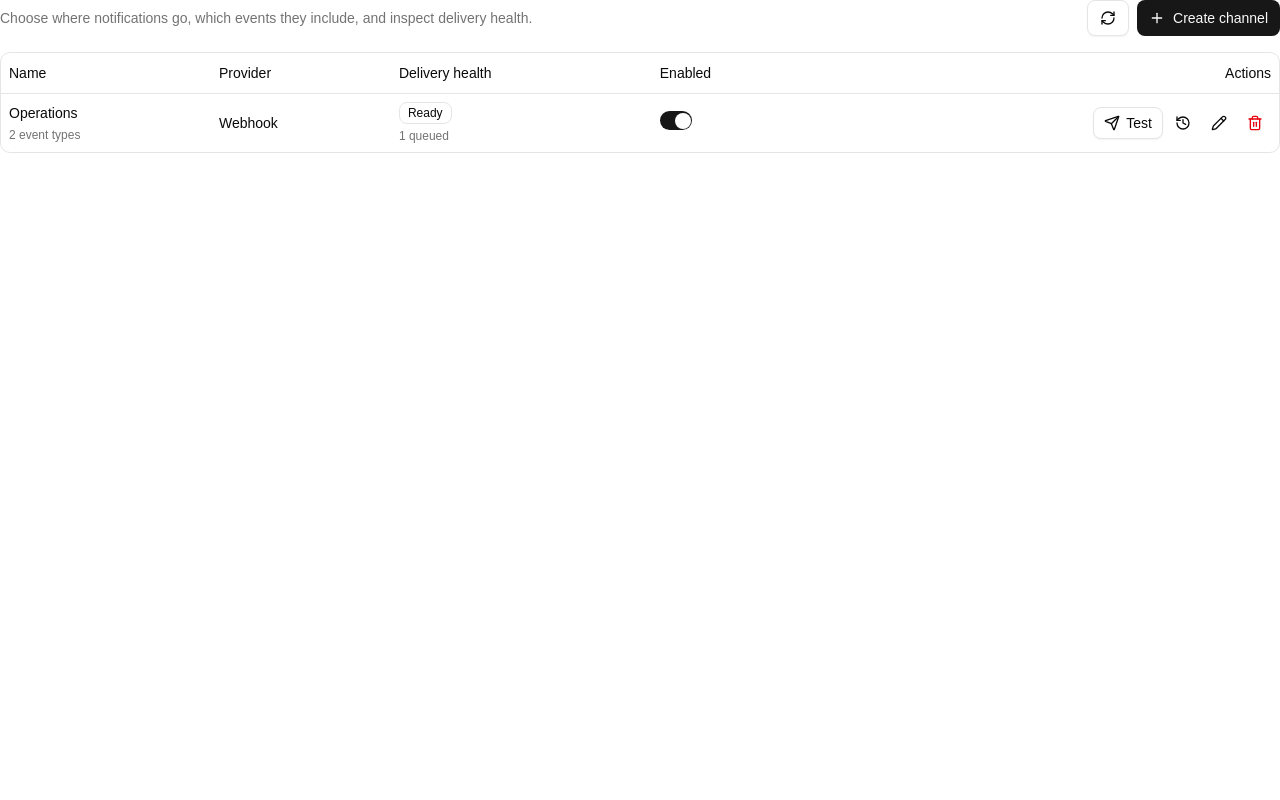
Test: notification channel operations › confirms deletion and leaves failed mutations retryable
What coordinates should you click on to do the following:
click the button named "Delete Operations"
I would click on:
 (1255, 122)
Its box is [1239,106,1271,138].
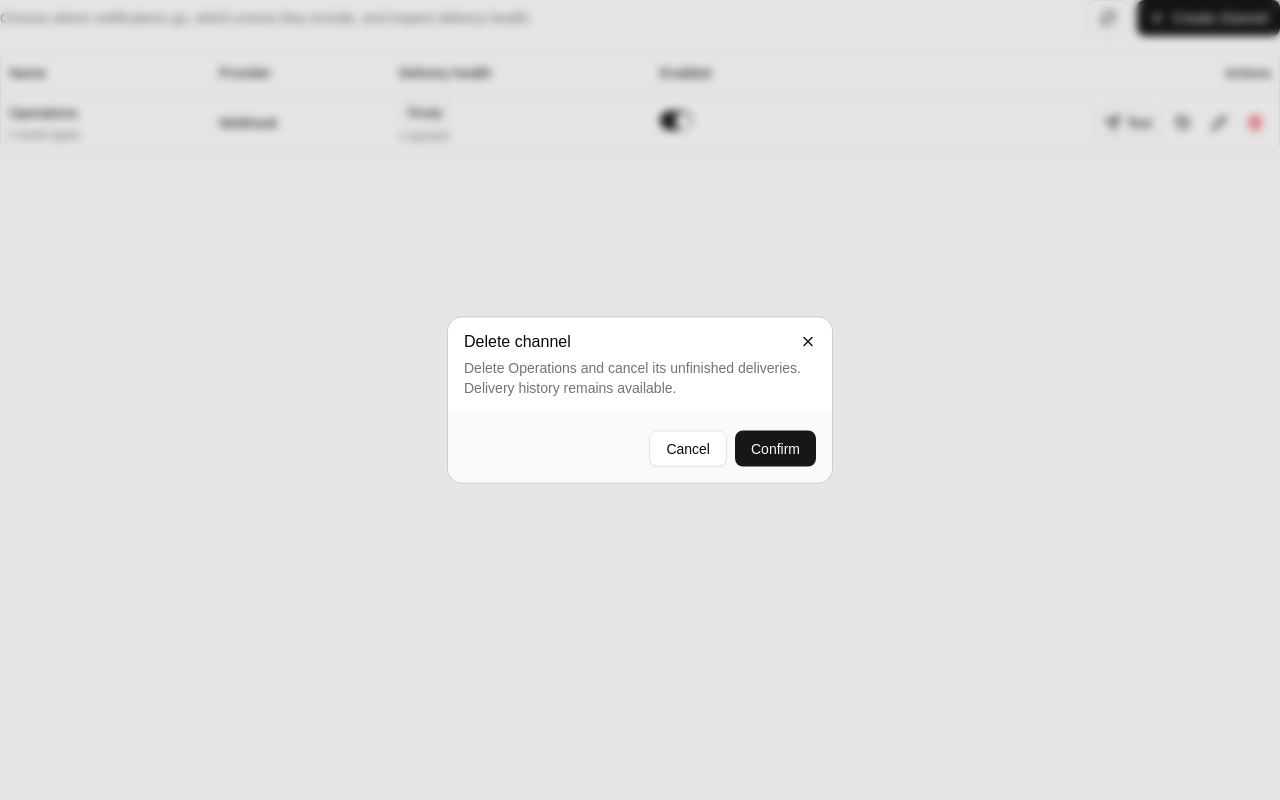
What coordinates should you click on to do the following:
click the button "Confirm"
I would click on:
 (776, 448)
Its box is [735,430,816,466].
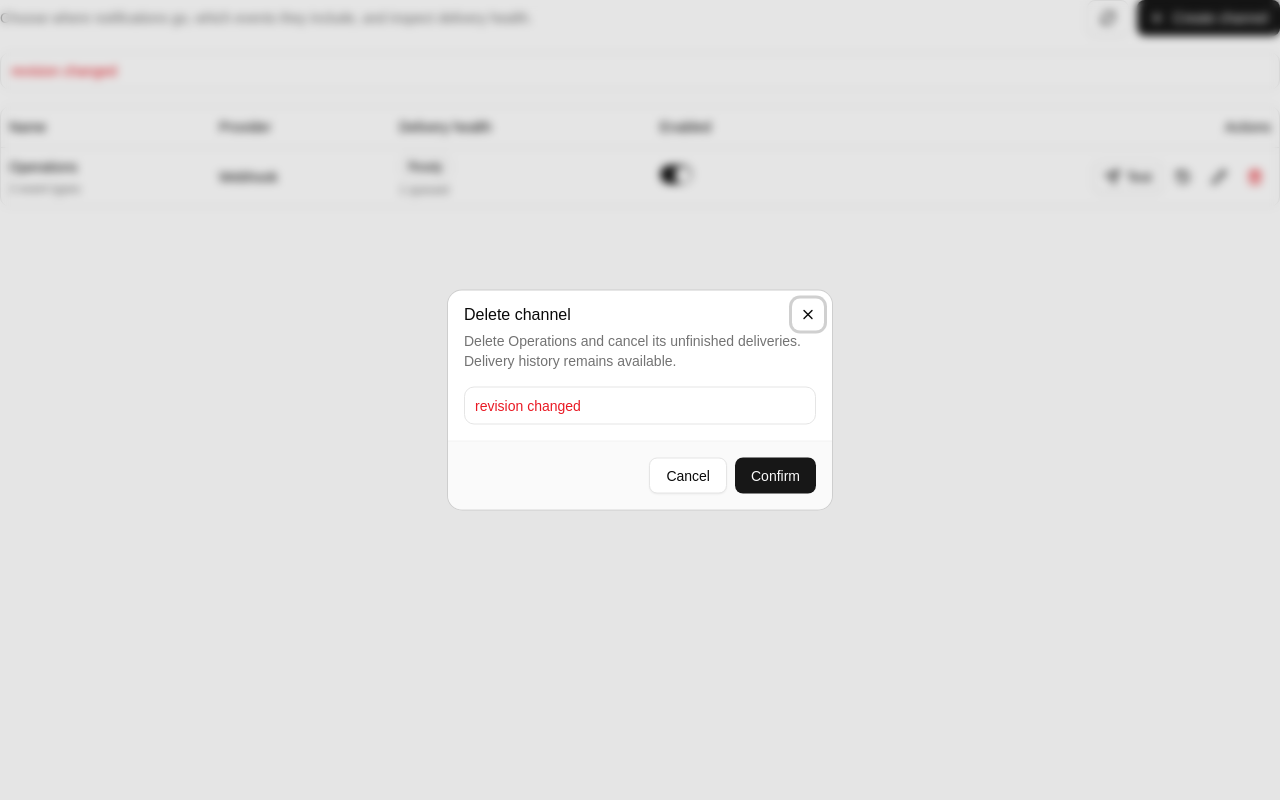
What coordinates should you click on to do the following:
click the button "Confirm"
I would click on:
 (776, 476)
Its box is [735,458,816,494].
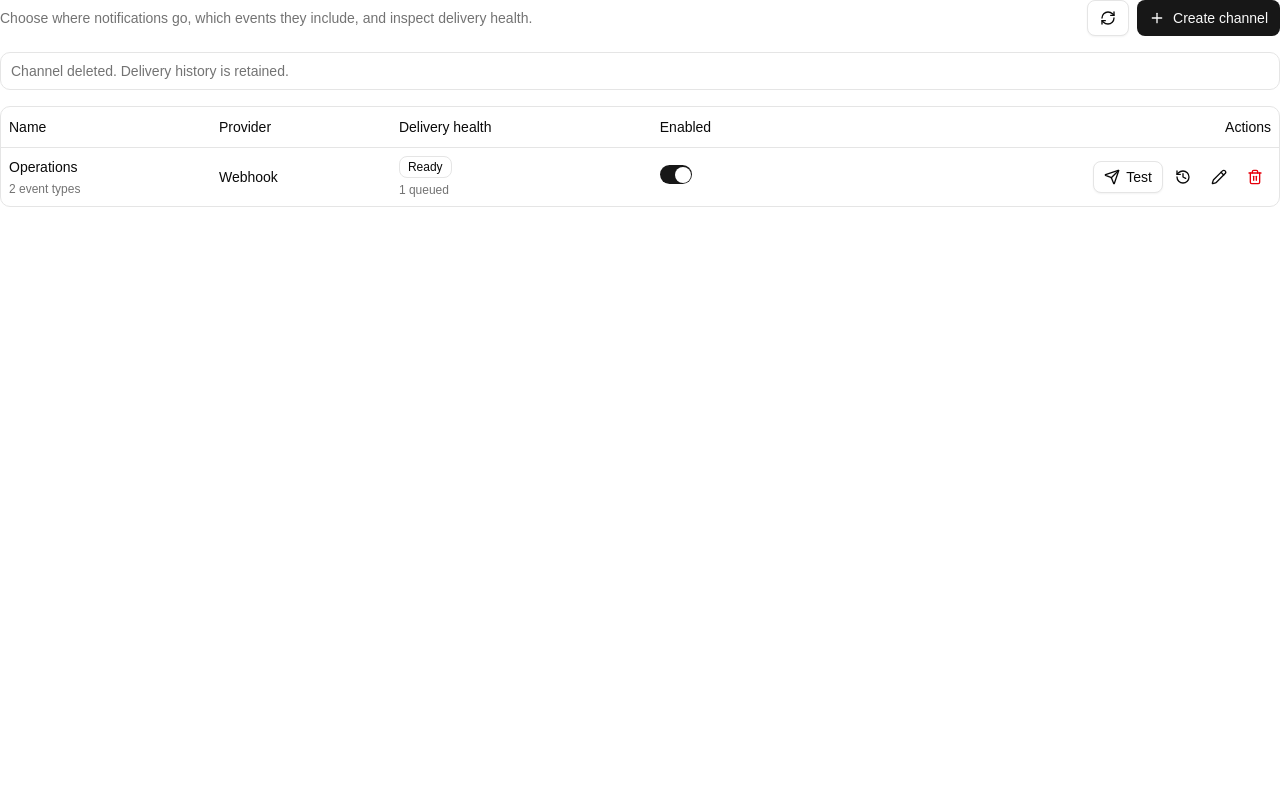
Now the dialog is gone
